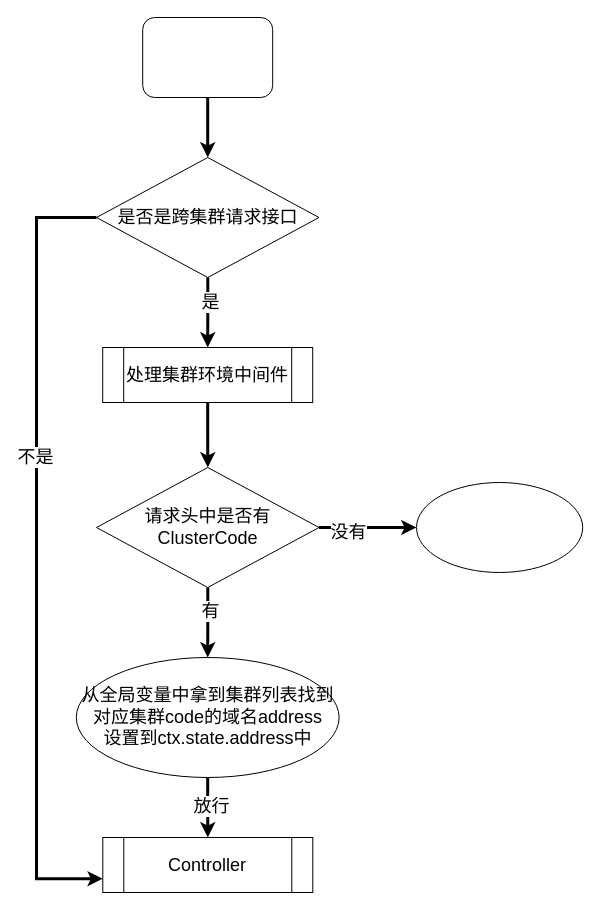
Some shapes in this 601 by 910 pixel diagram are drawn without their labels. Here are the shapes that lost their labels. From the top down, the centre of each, then its label:
At pixel 207 57: "fe".
At pixel 499 527: "设置ctx.response.body 响应空 请求拦截".
